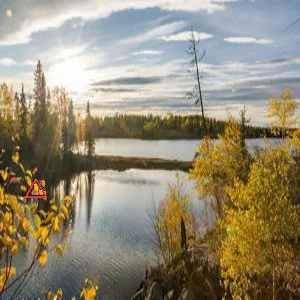triangle: (23, 177, 47, 200)
